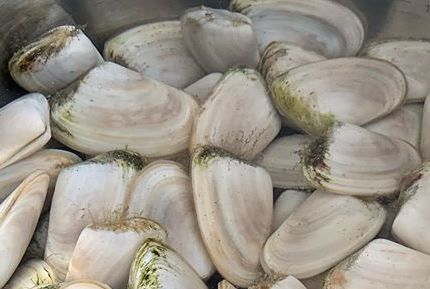tuatua: (50, 58, 196, 157), (44, 147, 139, 276), (254, 187, 387, 278), (189, 143, 273, 285), (127, 151, 216, 279), (271, 53, 409, 135), (303, 121, 423, 197), (193, 61, 281, 159), (61, 216, 168, 289), (101, 18, 202, 84), (6, 21, 102, 90), (1, 169, 47, 289), (318, 239, 430, 286), (179, 5, 258, 71), (1, 88, 52, 168)
